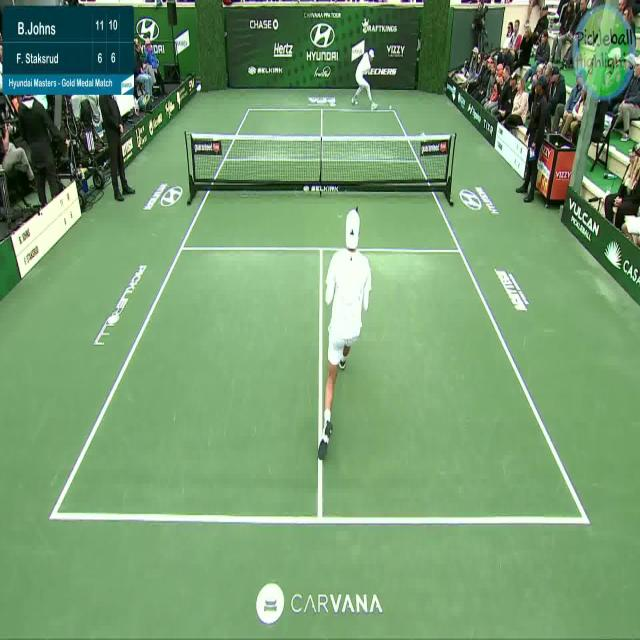ball: (386, 98, 393, 112)
